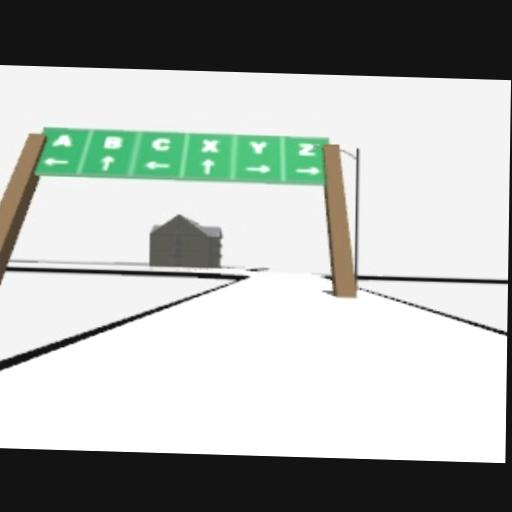A: (52, 132, 72, 146)
B: (102, 133, 122, 148)
C: (151, 135, 171, 149)
Left: (144, 159, 170, 169), (43, 156, 67, 166)
Right: (245, 162, 271, 172), (294, 165, 320, 173)
Straight: (200, 157, 216, 173), (101, 154, 113, 170)
X: (200, 136, 220, 151)
Y: (248, 139, 266, 152)
Z: (297, 141, 315, 155)
